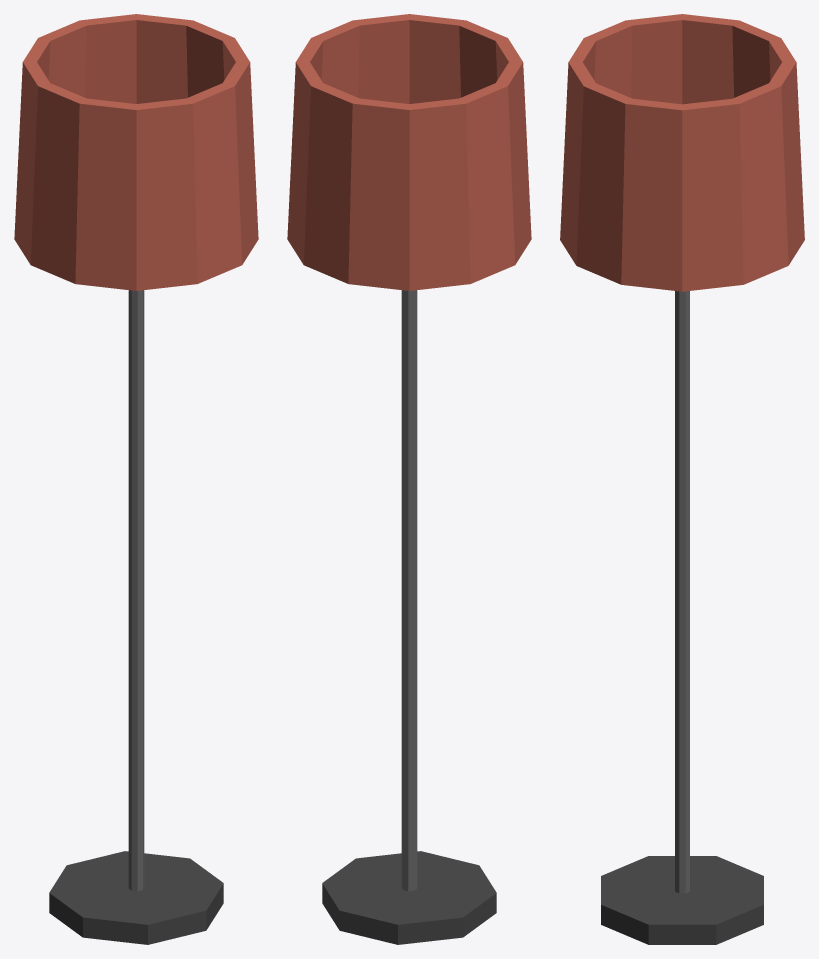
File: Light_05.fbx
3 renders of one model, left to right at view 1: azimuth 30°, elevation 25°; view 2: azimuth 150°, elevation 25°; view 3: azimuth 270°, elevation 25°, orthographic.
Visible parts, largest first — view 1: Light_05; view 2: Light_05; view 3: Light_05.
Part boxes in pixels (x1,y1,x2,y2): Light_05: (14,14,258,944); Light_05: (287,14,531,944); Light_05: (560,14,804,944).
Bounding box in the file's own units: 39.62 × 151 × 39.62.
